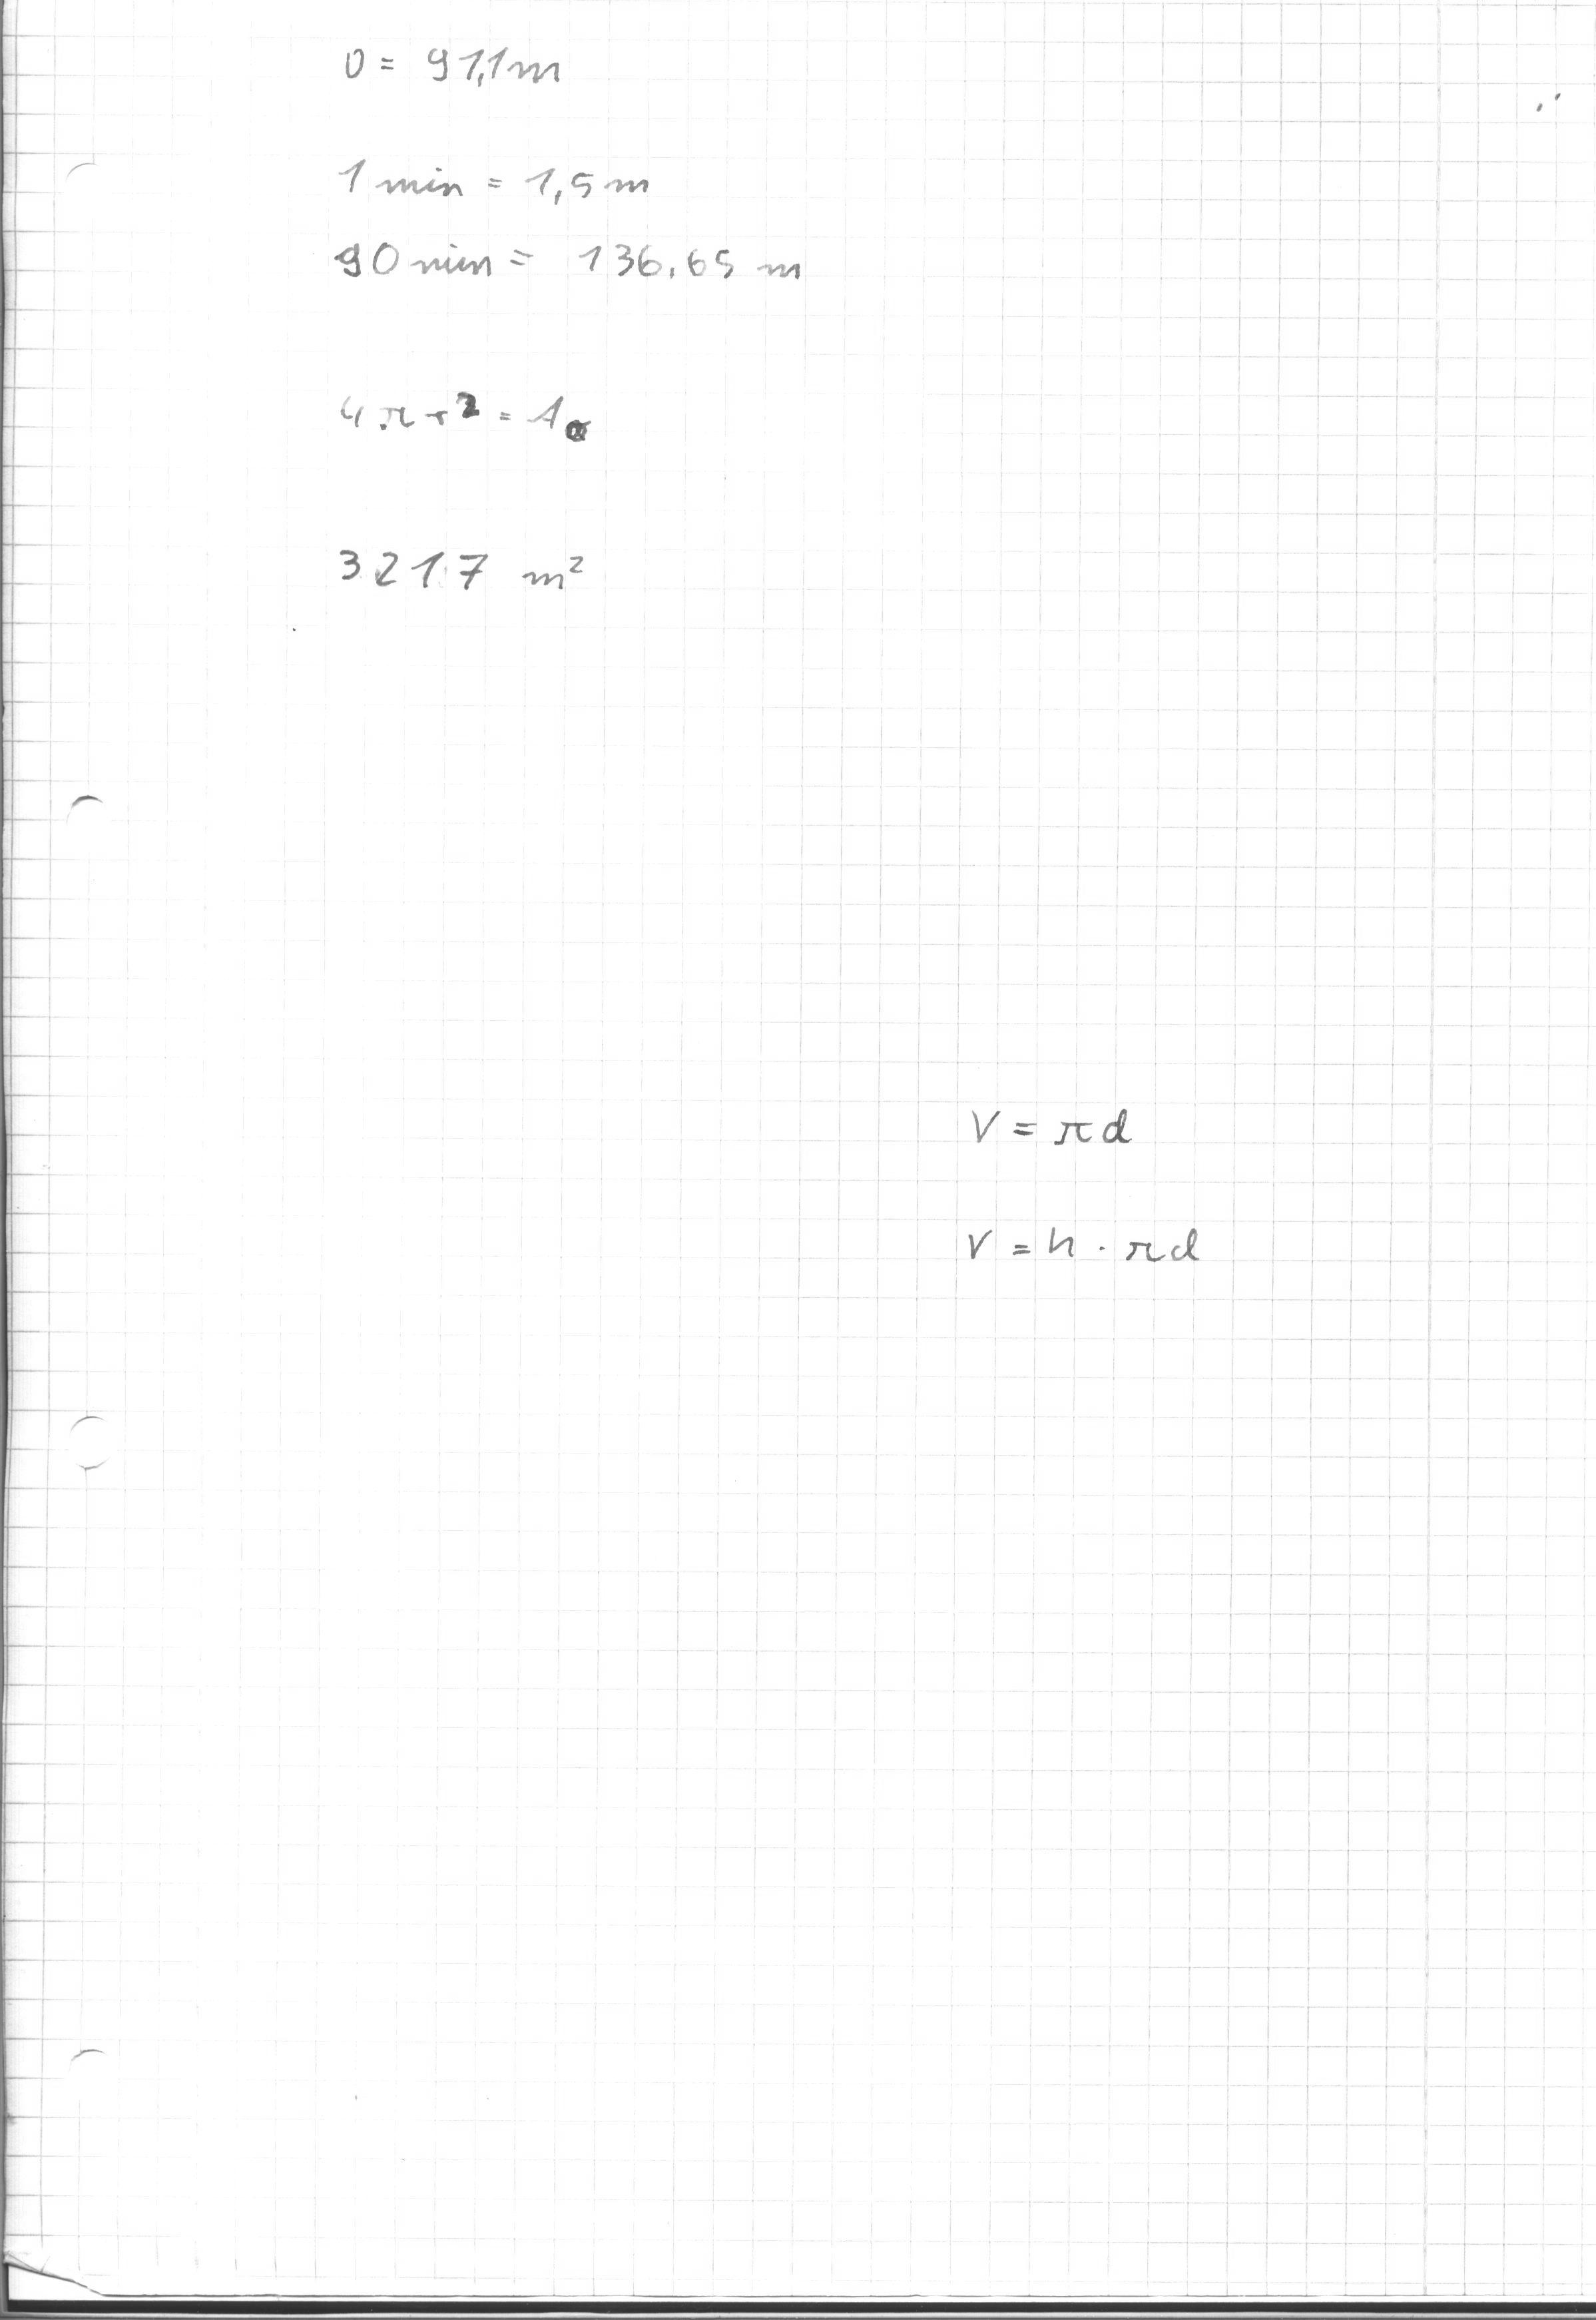word: (300, 137, 825, 304), (924, 1081, 1223, 1283), (291, 487, 652, 649), (289, 332, 620, 478), (306, 3, 599, 129)
